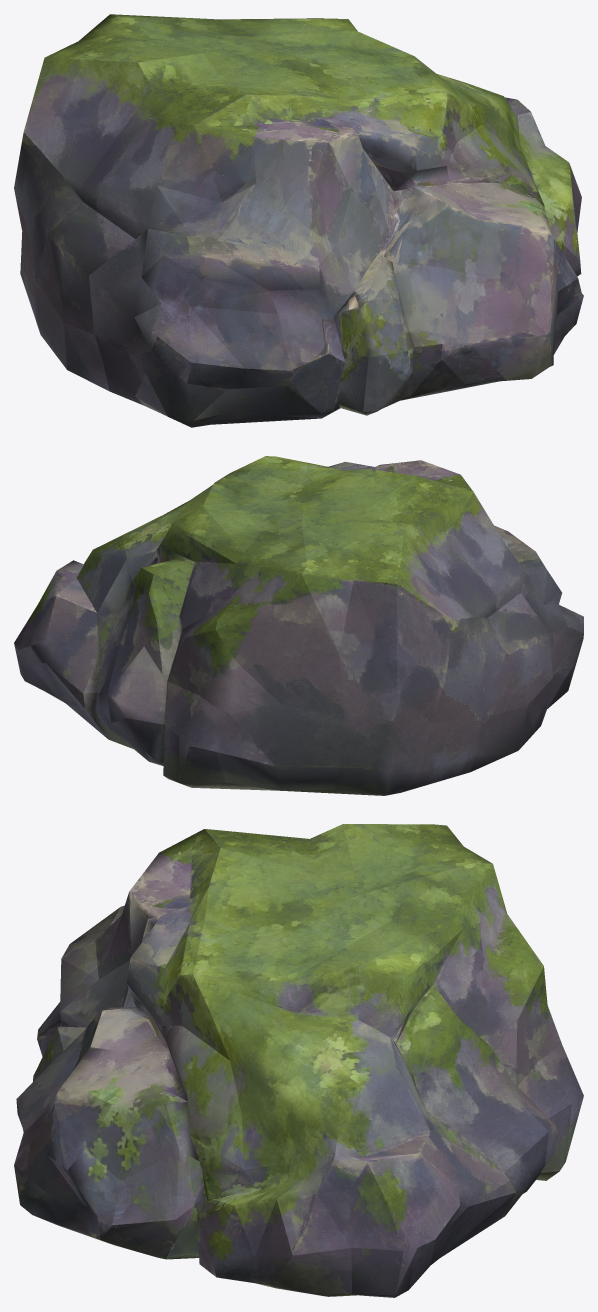
The model's file is source.glb.
The picture shows the model from 3 angles, top to bottom: view 1: azimuth 30°, elevation 25°; view 2: azimuth 150°, elevation 25°; view 3: azimuth 270°, elevation 25°; orthographic projection. The views are drawn at different scales.
Bounding box in the file's own units: 1 × 0.4834 × 0.918.
Materials: 1 (1 with a texture image).
